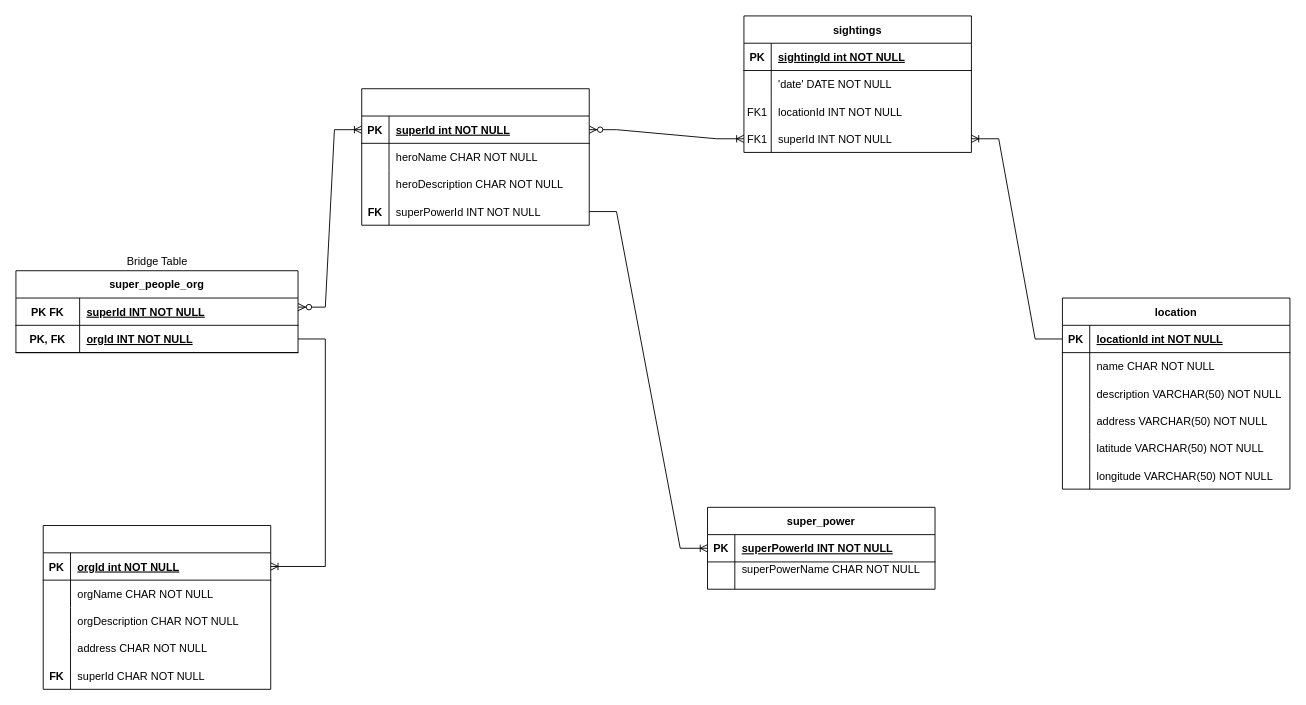
The diagram is 1306 pixels wide and 705 high, and some of its shapes have lost their labels. The shapes that lost their labels are listed below. From the top down, each one's box as (x1, y1, x2, y2) in pixels, then its label:
(361, 88, 589, 225): super_people
(42, 525, 271, 689): super_org
